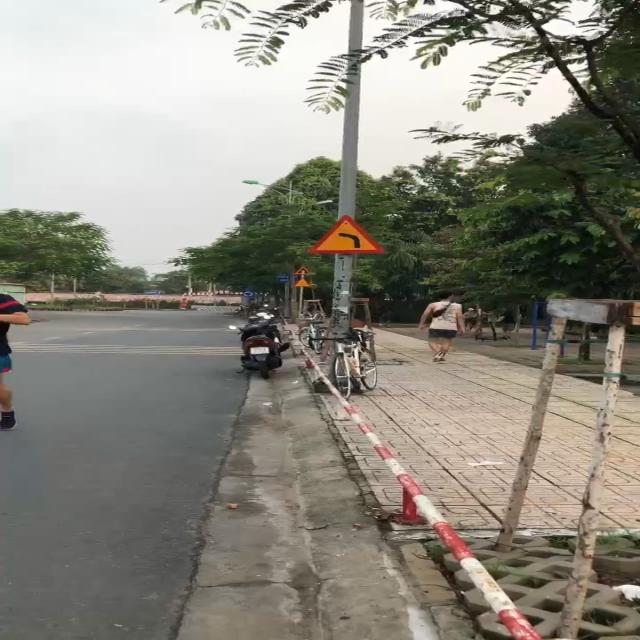Bien bao cho ngoat nguy hiem: (304, 212, 380, 256)
